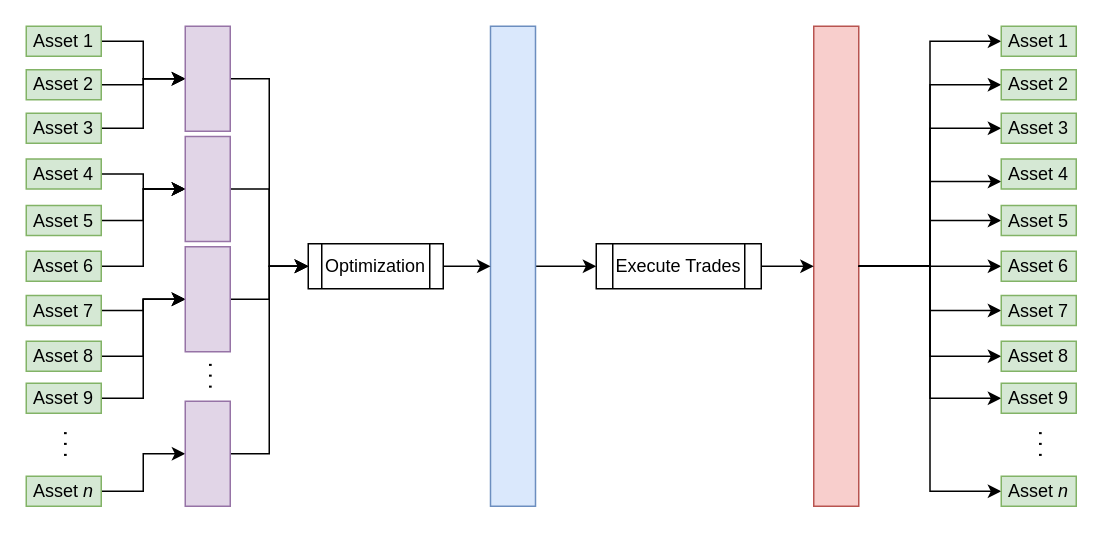
Image size: 1103x533. Some labels were removed from this diagram. The box of each missing label's shape, as (x1, y1, x2, y2) in pixels:
ETF Alpha: (184, 25, 230, 131)
ETF Beta: (184, 135, 230, 242)
ETF Charlie: (184, 245, 230, 352)
ETF n: (184, 400, 230, 506)
Global Minimum Variance Portfolio: (489, 25, 536, 506)
Zipline Engine: (812, 25, 859, 506)
